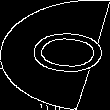O_E: (6, 29, 104, 81)
